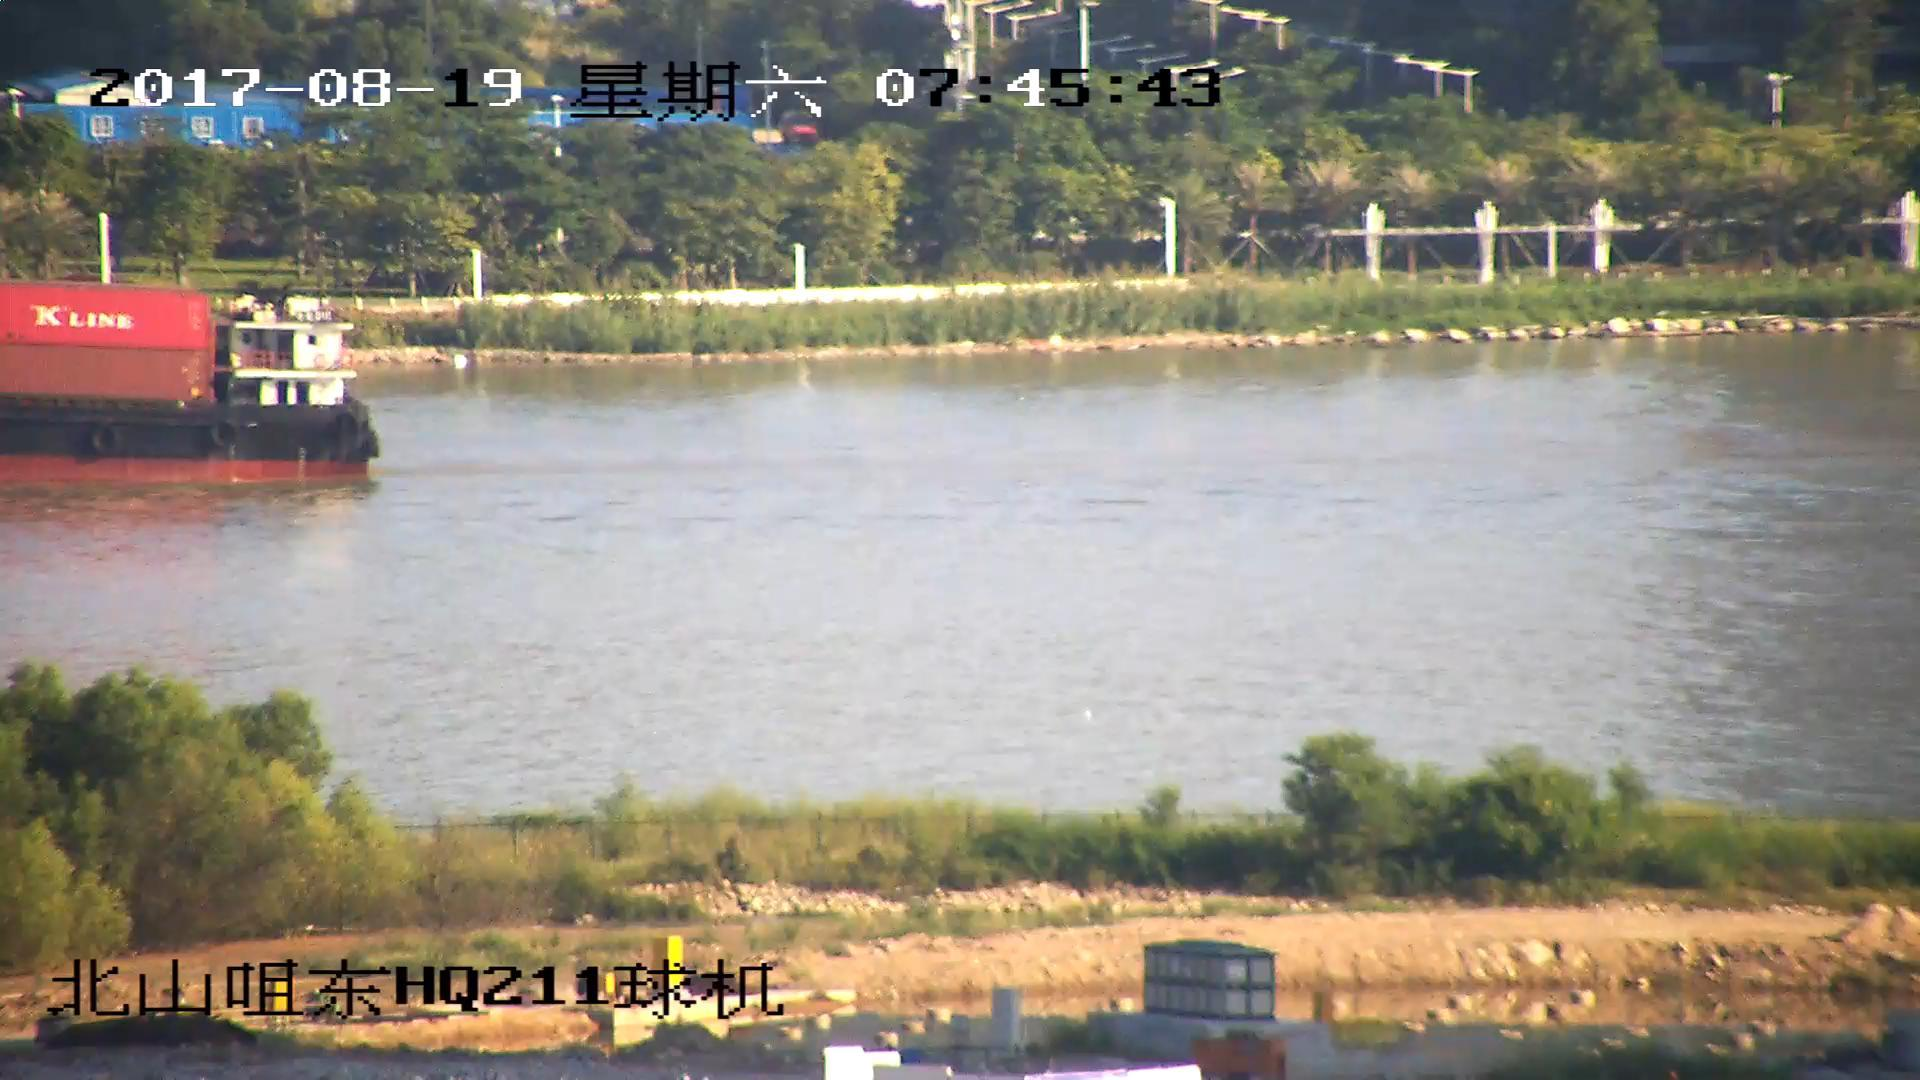Ship: (3, 272, 385, 489)
